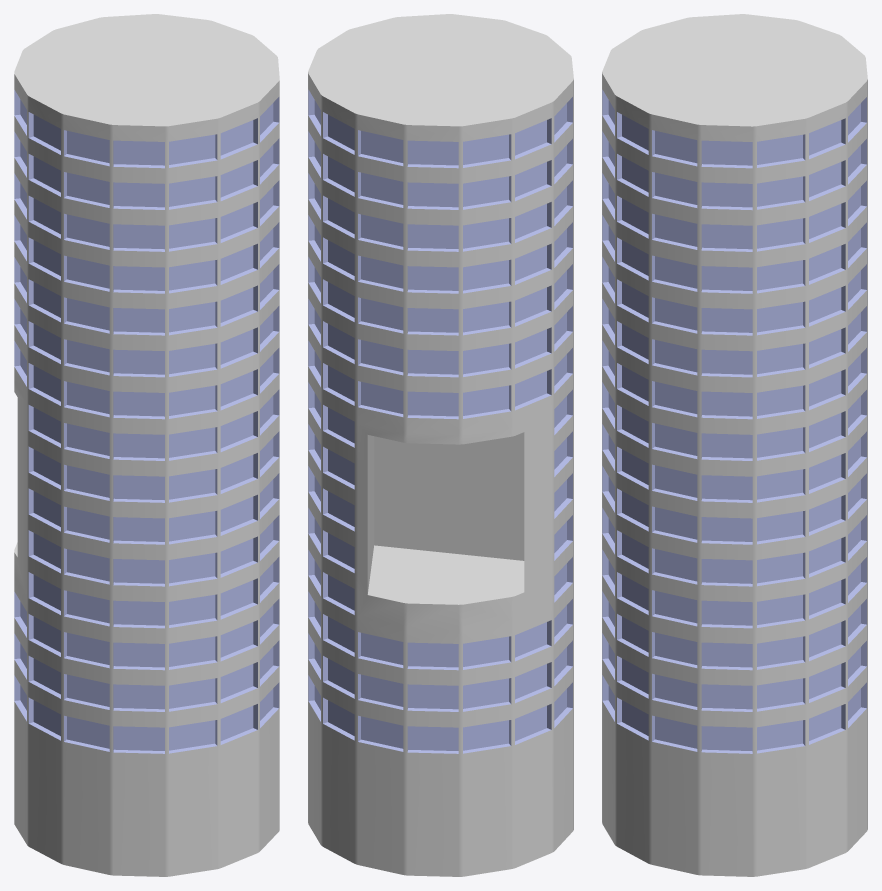
File: buhinn2.fbx
The picture shows the model from 3 angles, left to right: view 1: azimuth 30°, elevation 25°; view 2: azimuth 150°, elevation 25°; view 3: azimuth 270°, elevation 25°; orthographic projection.
Parts seen in each view (by area): view 1: polySurface5; view 2: polySurface5; view 3: polySurface5.
Part boxes in pixels (bbox=[...]): polySurface5: bbox=[14, 14, 279, 876]; polySurface5: bbox=[308, 14, 573, 876]; polySurface5: bbox=[602, 14, 867, 876].
Bounding box in the file's own units: 12.43 × 38.64 × 12.4.
